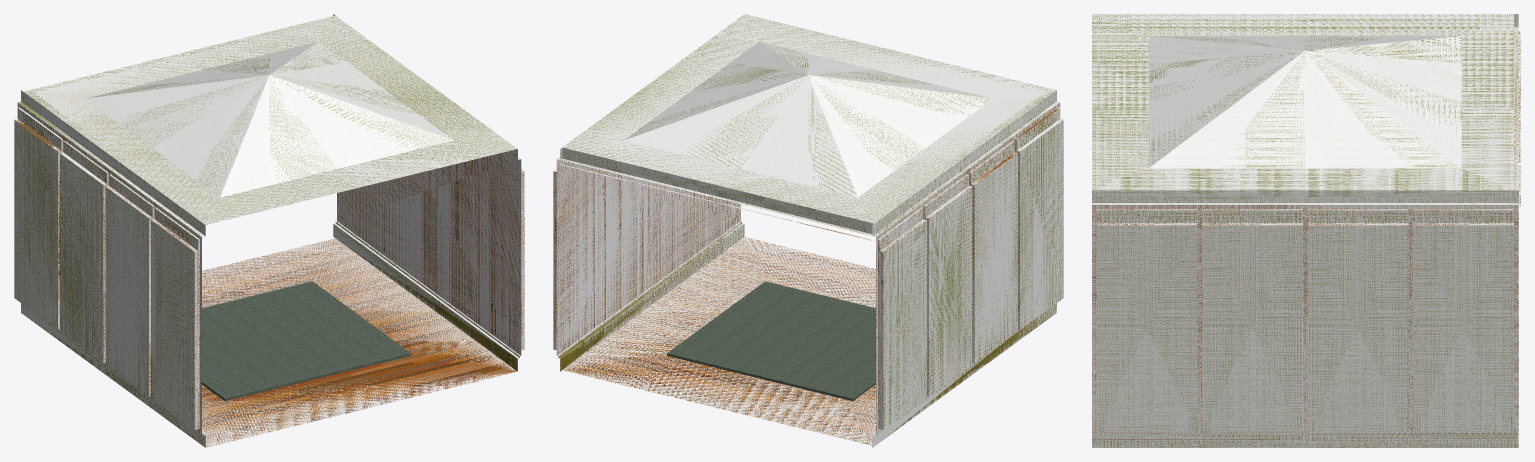
The picture shows the model from 3 angles, left to right: view 1: azimuth 30°, elevation 25°; view 2: azimuth 150°, elevation 25°; view 3: azimuth 270°, elevation 25°; orthographic projection. The views are drawn at different scales.
Parts seen in each view (by area): view 1: SketchUp.006, SketchUp.041, SketchUp.058, SketchUp.061, SketchUp.022, SketchUp.009, SketchUp.008, SketchUp.013, SketchUp.015, SketchUp.023, SketchUp.039, SketchUp.002 (+22 smaller); view 2: SketchUp.006, SketchUp.041, SketchUp.058, SketchUp.061, SketchUp.022, SketchUp.013, SketchUp.008, SketchUp.009, SketchUp.015, SketchUp.020, SketchUp.035, SketchUp.002 (+22 smaller); view 3: SketchUp.006, SketchUp.049, SketchUp.056, SketchUp.053, SketchUp.059, SketchUp.058, SketchUp.054, SketchUp.022, SketchUp.029, SketchUp.024, SketchUp.043, SketchUp.032 (+17 smaller).
Part boxes in pixels (left/top/right/bottom): SketchUp.006: left=18, top=14, right=520, bottom=236; SketchUp.041: left=202, top=238, right=517, bottom=447; SketchUp.058: left=337, top=151, right=521, bottom=355; SketchUp.061: left=202, top=281, right=410, bottom=401; SketchUp.022: left=35, top=20, right=437, bottom=218; SketchUp.009: left=151, top=220, right=194, bottom=429; SketchUp.008: left=105, top=187, right=148, bottom=396; SketchUp.013: left=14, top=120, right=57, bottom=329; SketchUp.015: left=60, top=153, right=103, bottom=362; SketchUp.023: left=269, top=75, right=336, bottom=185; SketchUp.039: left=270, top=75, right=404, bottom=168; SketchUp.002: left=14, top=107, right=199, bottom=429; SketchUp.006: left=557, top=14, right=1059, bottom=236; SketchUp.041: left=562, top=237, right=875, bottom=445; SketchUp.058: left=556, top=159, right=740, bottom=355; SketchUp.061: left=667, top=281, right=875, bottom=401; SketchUp.022: left=575, top=21, right=1042, bottom=217; SketchUp.013: left=883, top=220, right=926, bottom=429; SketchUp.008: left=974, top=153, right=1017, bottom=362; SketchUp.009: left=1020, top=120, right=1063, bottom=329; SketchUp.015: left=929, top=187, right=972, bottom=396; SketchUp.020: left=741, top=75, right=808, bottom=185; SketchUp.035: left=673, top=75, right=807, bottom=168; SketchUp.002: left=878, top=107, right=1063, bottom=429; SketchUp.006: left=1092, top=14, right=1518, bottom=204; SketchUp.049: left=1307, top=225, right=1408, bottom=431; SketchUp.056: left=1096, top=225, right=1197, bottom=431; SketchUp.053: left=1413, top=225, right=1513, bottom=431; SketchUp.059: left=1202, top=225, right=1302, bottom=431; SketchUp.058: left=1092, top=205, right=1518, bottom=432; SketchUp.054: left=1092, top=432, right=1518, bottom=447; SketchUp.022: left=1106, top=18, right=1504, bottom=137; SketchUp.029: left=1215, top=51, right=1305, bottom=168; SketchUp.024: left=1305, top=51, right=1395, bottom=168; SketchUp.043: left=1096, top=209, right=1513, bottom=428; SketchUp.032: left=1306, top=51, right=1461, bottom=168.
Size of the model in its own units: 4.72 by 3.66 by 4.6.
Materials: 7 (6 with a texture image).
